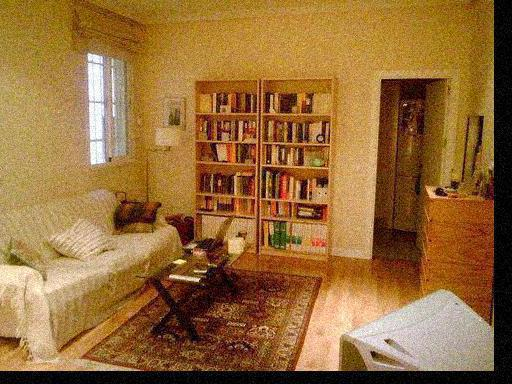Puerta: (421, 77, 456, 257)
